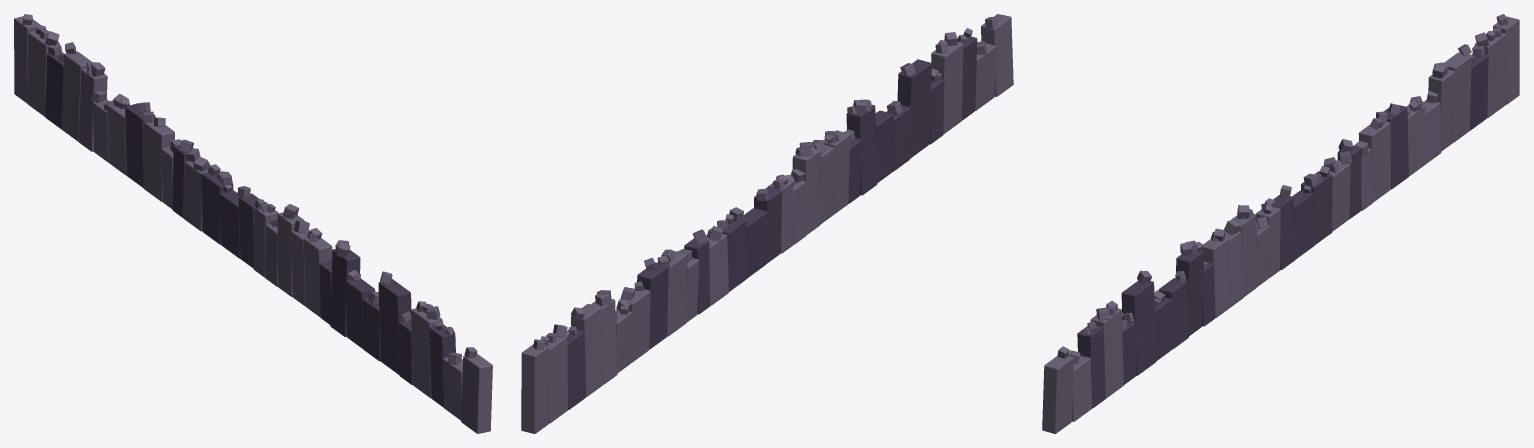
The model's file is WallsW.fbx.
The picture shows the model from 3 angles, left to right: view 1: azimuth 30°, elevation 25°; view 2: azimuth 150°, elevation 25°; view 3: azimuth 330°, elevation 25°; orthographic projection. The views are drawn at different scales.
Visible parts, largest first — view 1: WallBlock1_-12.001; view 2: WallBlock1_-12.001; view 3: WallBlock1_-12.001.
Part boxes in pixels (left/top/right/bottom): WallBlock1_-12.001: left=14, top=14, right=492, bottom=433; WallBlock1_-12.001: left=521, top=14, right=1013, bottom=433; WallBlock1_-12.001: left=1042, top=14, right=1519, bottom=433.
Bounding box in the file's own units: 596 × 2791 × 25887.
